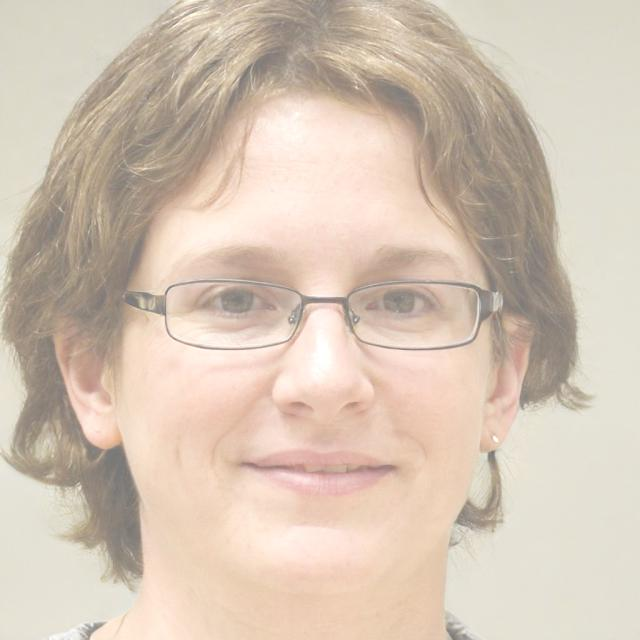lens: (166, 281, 301, 348), (348, 282, 479, 350)
